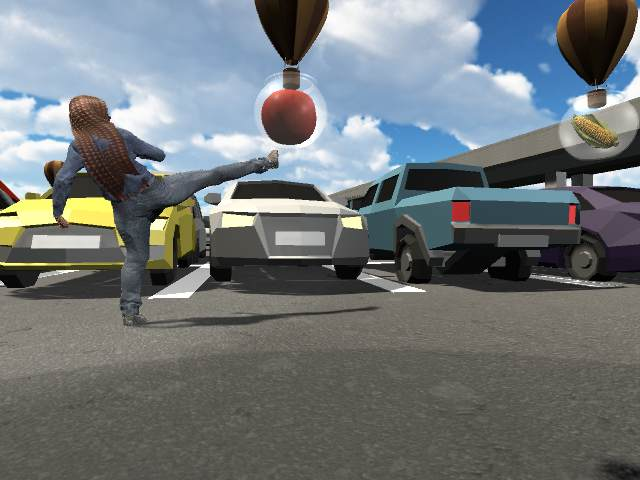turn_right: (53, 95, 280, 328)
